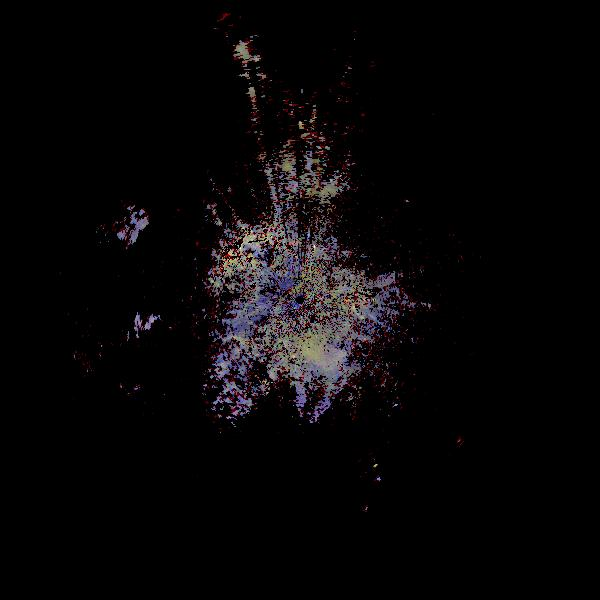roost: (237, 312, 369, 444)
